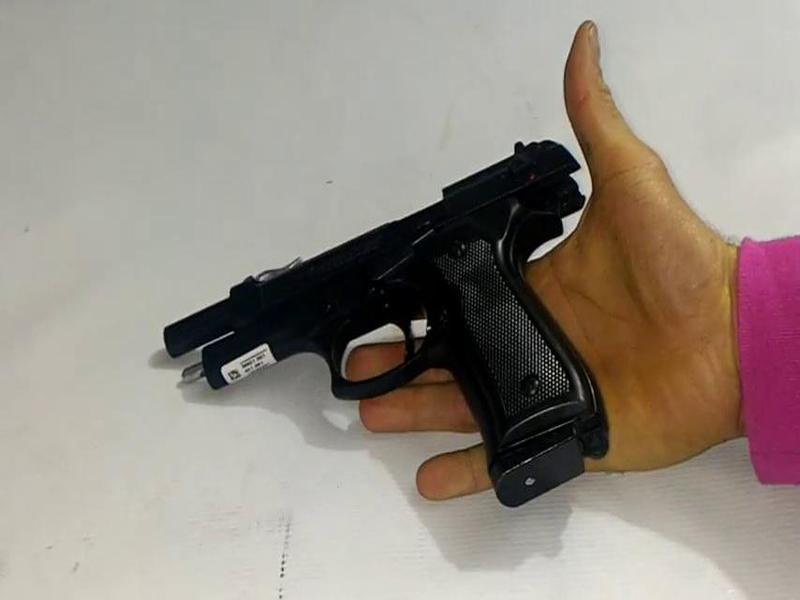Pistola: (133, 119, 652, 505)
